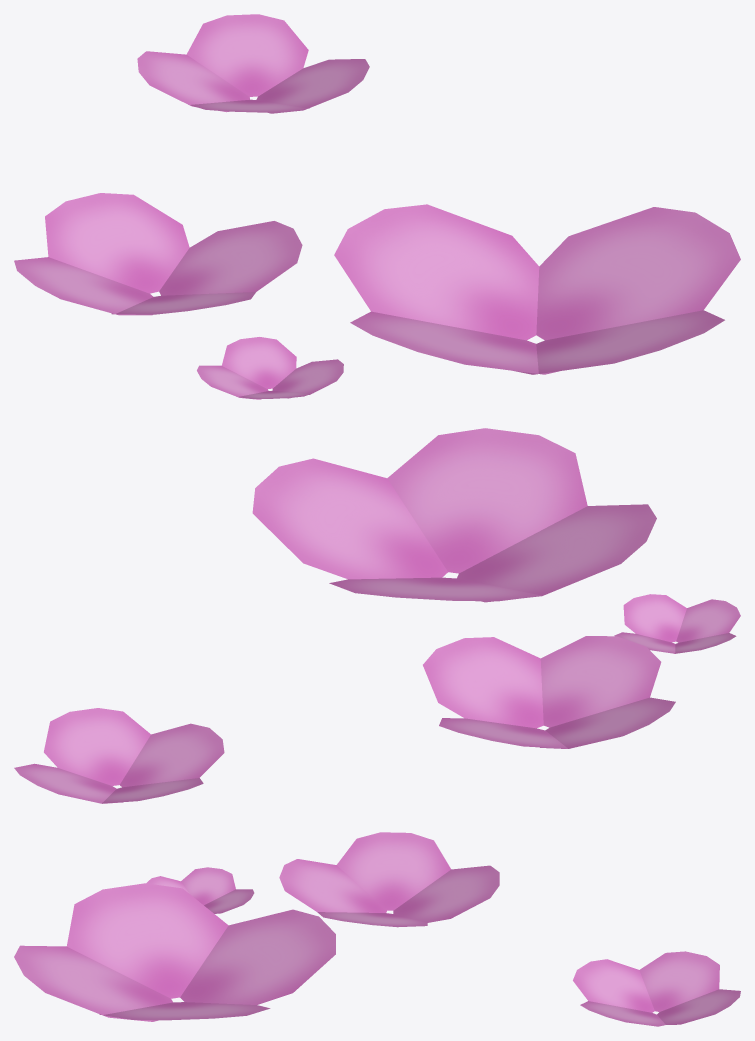
The model's file is SM_Enviro_Flower02.fbx.
The picture shows the model from 3 angles, top to bottom: view 1: azimuth 30°, elevation 25°; view 2: azimuth 150°, elevation 25°; view 3: azimuth 270°, elevation 25°; orthographic projection. The views are drawn at different scales.
Parts seen in each view (by area): view 1: SM_Enviro_Flower02; view 2: SM_Enviro_Flower02; view 3: SM_Enviro_Flower02.
Boxes of the visible parts, <box> form: SM_Enviro_Flower02: <box>14,14,740,399</box>; SM_Enviro_Flower02: <box>14,428,740,803</box>; SM_Enviro_Flower02: <box>14,832,740,1026</box>.
Size of the model in its own units: 30.17 by 3.39 by 45.53.
